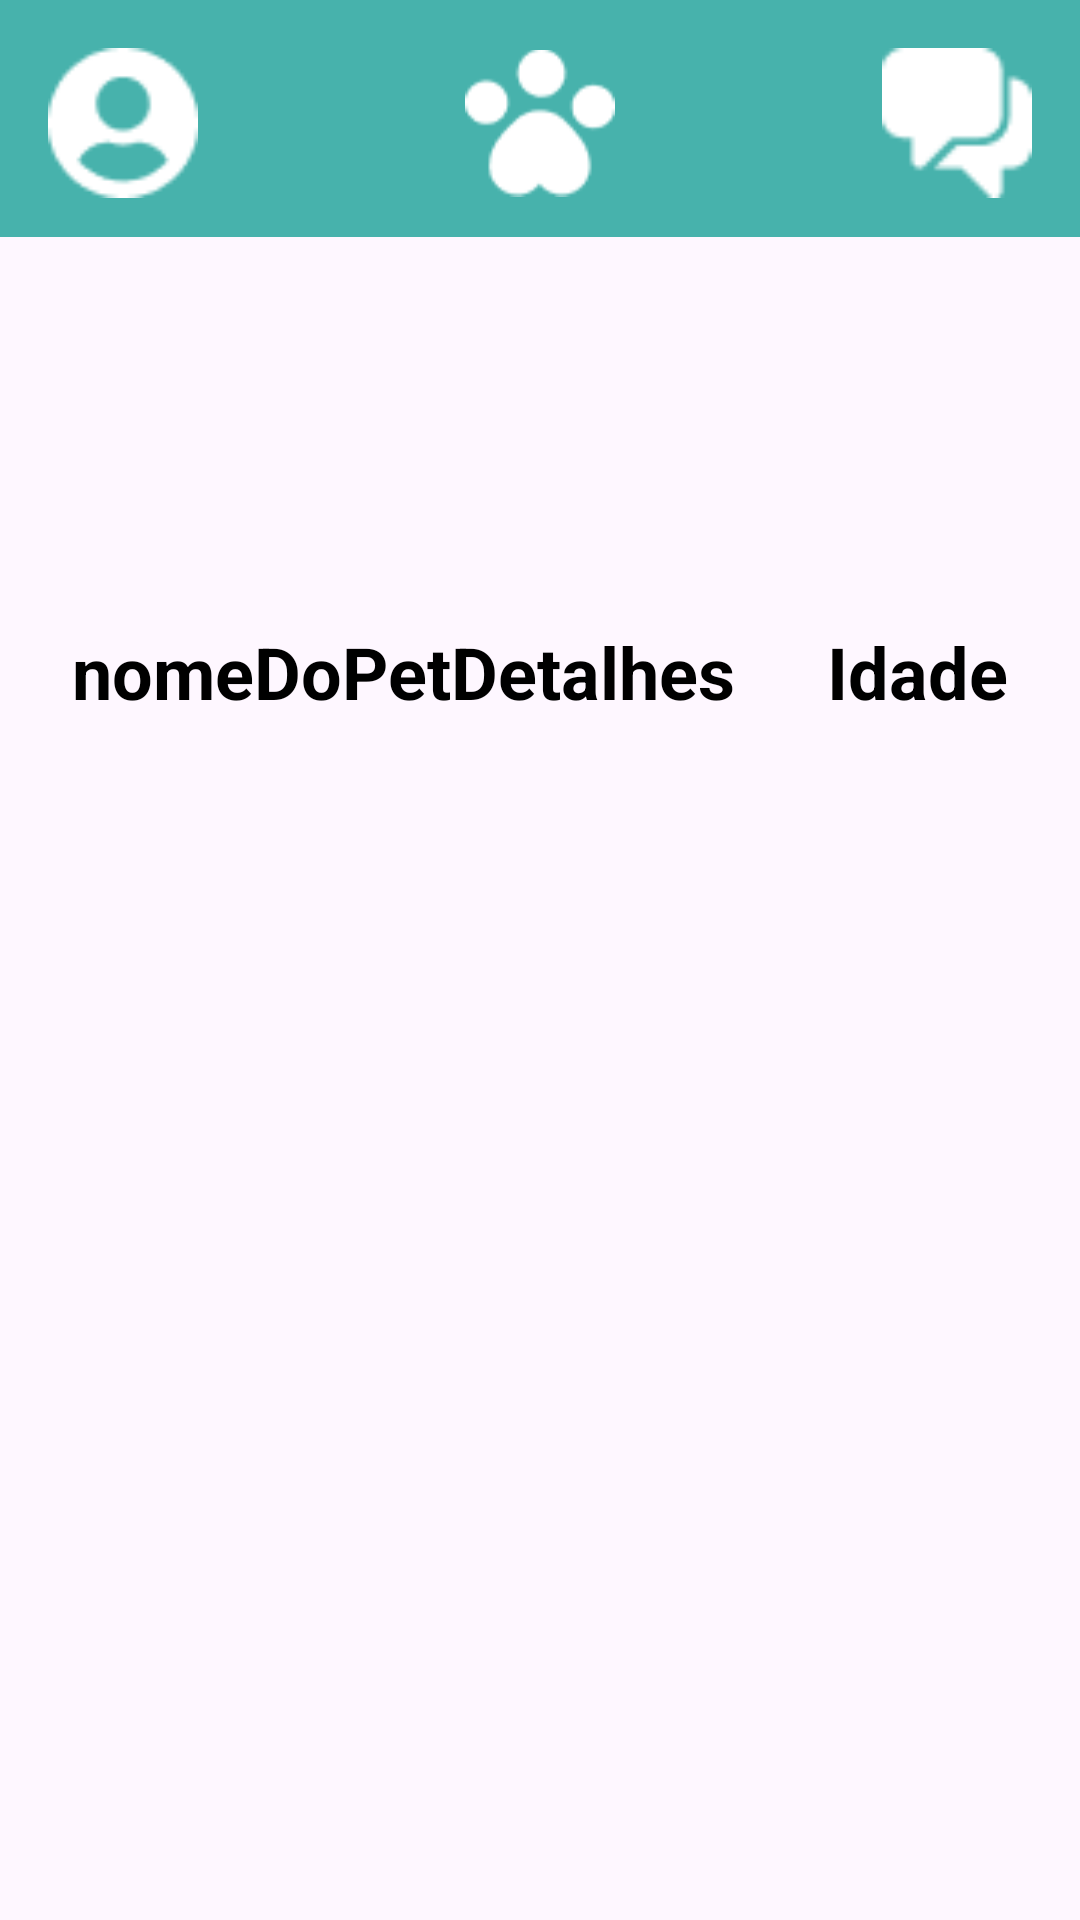

Where icons sit on this 1080×1920 app screen, as (x1, y1, x2, y2):
iconmessages: (882, 48, 1032, 198)
iconpaw: (465, 50, 615, 197)
iconuser: (48, 48, 198, 198)
